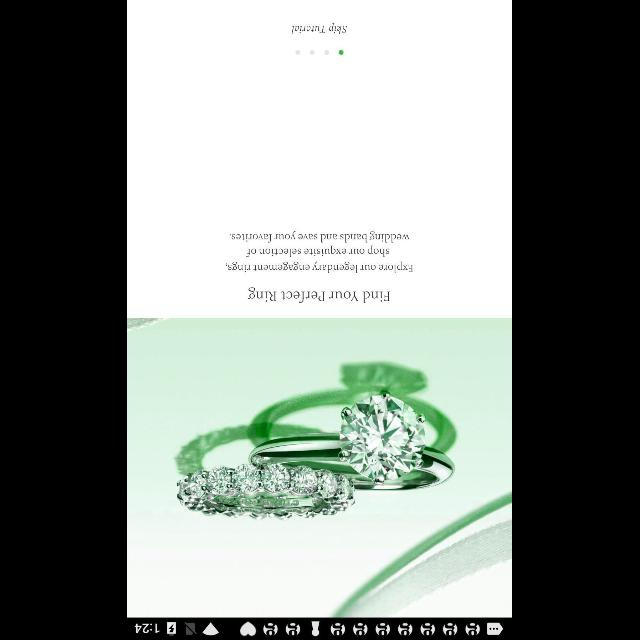image: (128, 318, 512, 616)
pageindicator: (296, 50, 344, 54)
text: (226, 231, 414, 273), (248, 287, 392, 303), (292, 23, 348, 34)
uppertaskbar: (128, 617, 512, 639)
